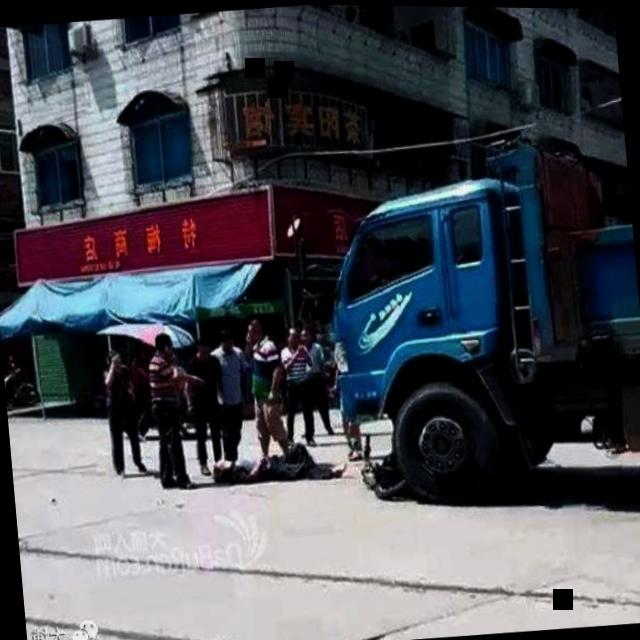Fall-Detected: (193, 425, 368, 499)
